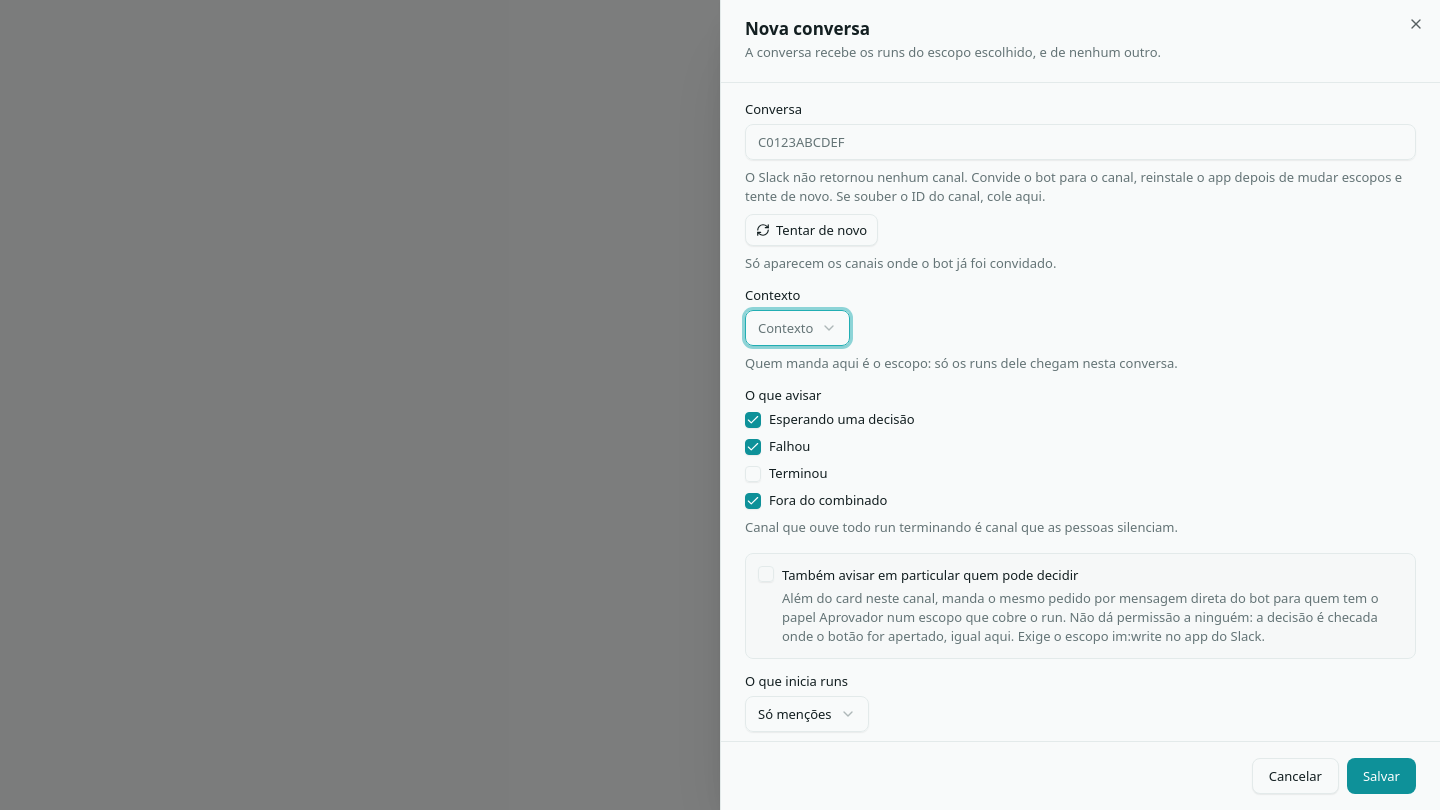
Scenario: conversation configuration › only offers the caller as runAs unless they administer identities
The width and height of the screenshot is (1440, 810).
Click the dropdown named "O que inicia runs". click: click(807, 714)
box: [745,696,869,732]
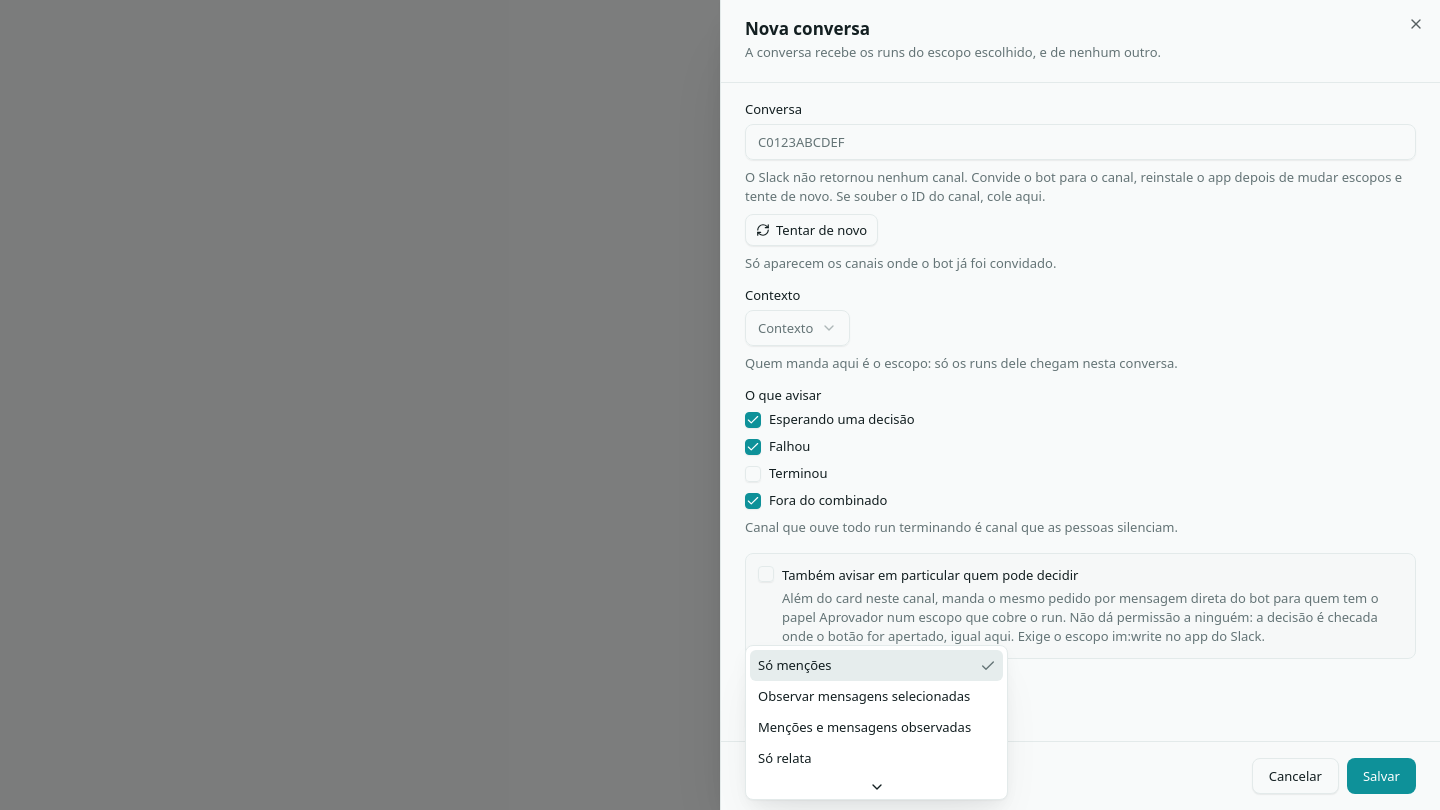
Click the option "Observar mensagens selecionadas". click: click(864, 696)
box: [758,687,970,705]
(page scrolled)
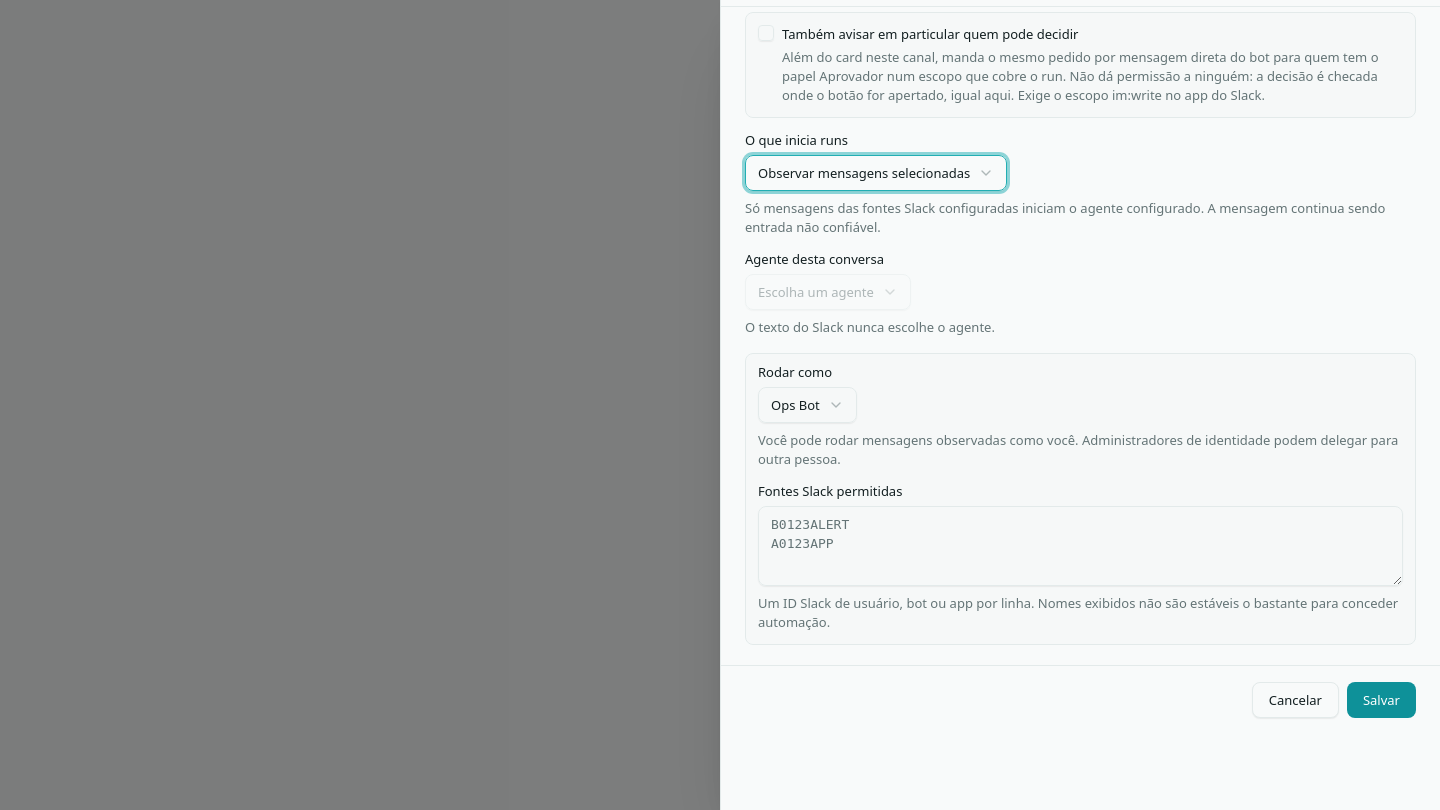
Click the dropdown named "Rodar como". click: click(807, 405)
box: [758,387,857,423]
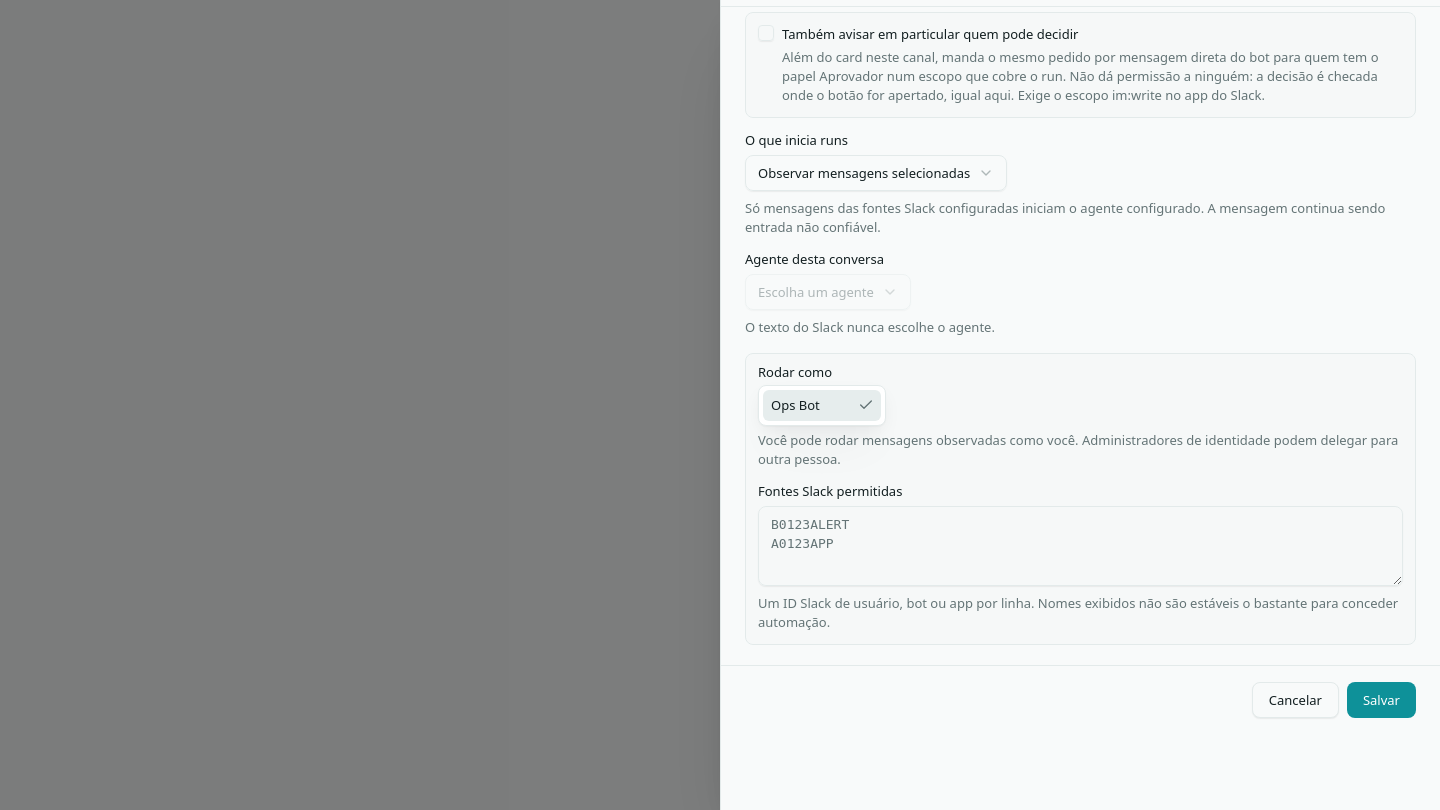
Check: the text "Administradores de identidade podem delegar" is shown, box [758,431,1398,468]
Check: the option "Ops Bot" is shown, box [763,390,881,420]
